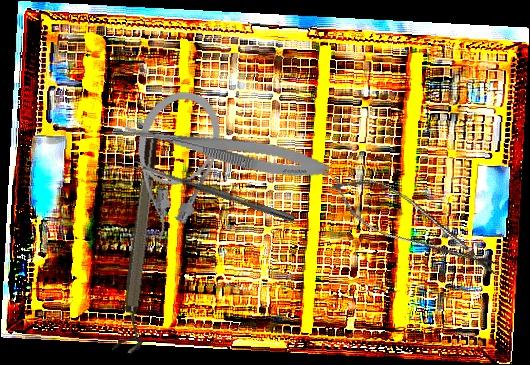Cannula: (110, 80, 233, 250)
Fixation Ring: (112, 137, 171, 355)
Micro Scissor: (320, 162, 510, 289), (115, 117, 332, 185)
Surgical Spoon: (132, 159, 296, 223)
